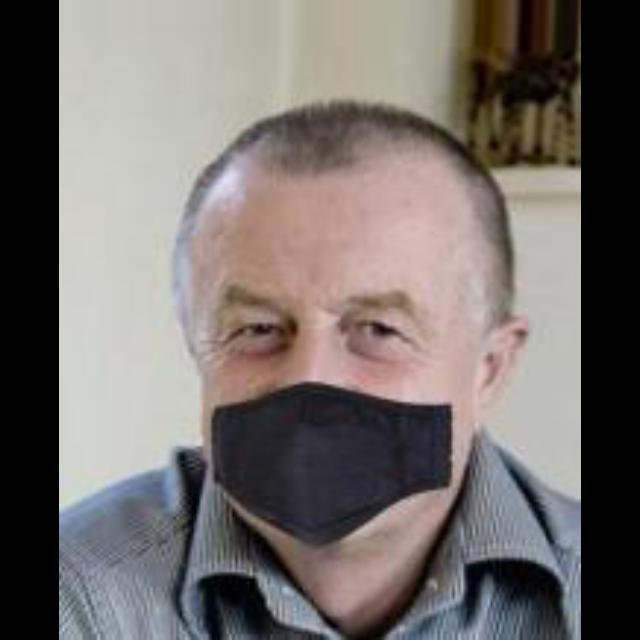suspicion: (140, 108, 548, 548)
